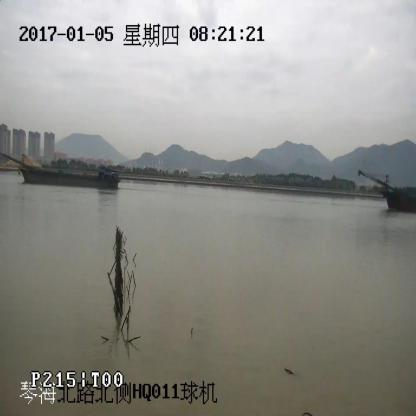Bulk Carrier: (0, 153, 119, 189), (360, 172, 416, 210)
